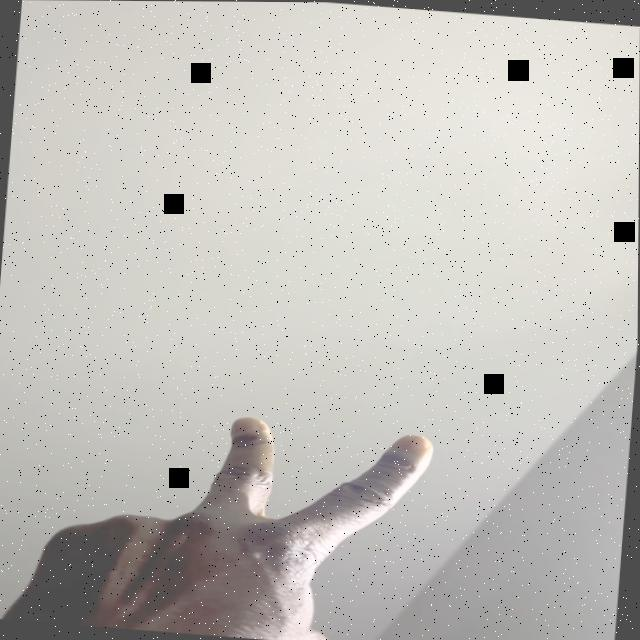Scissors: (4, 396, 433, 640)
